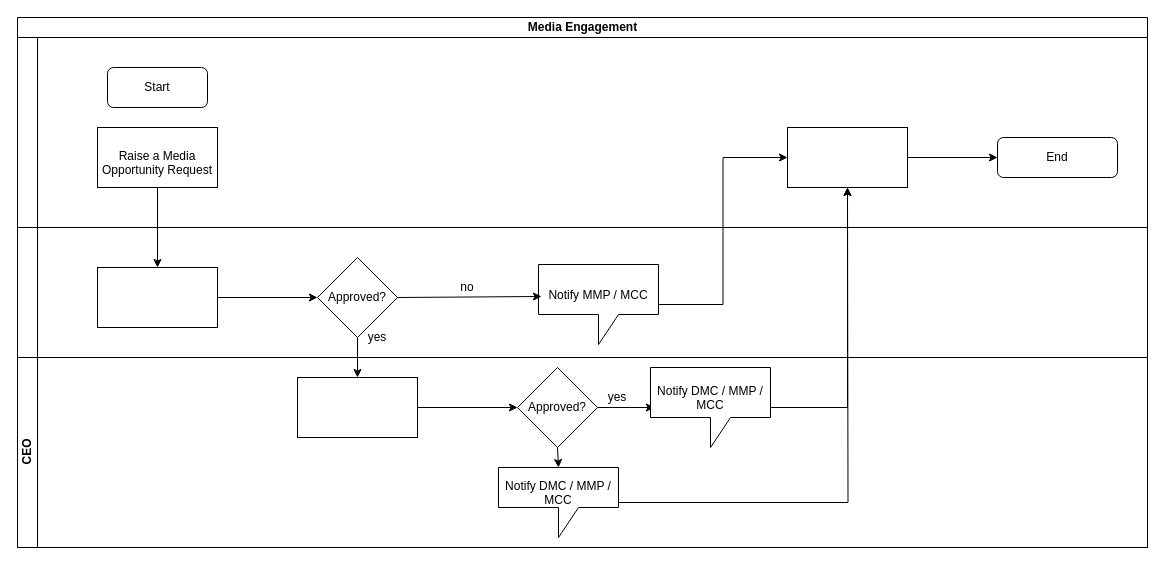
The diagram is 1165 pixels wide and 565 high, and some of its shapes have lost their labels. Here are the shapes that lost their labels. From the top down, the box of each, then its label:
(16, 36, 1148, 228): MMP/MCC
(786, 126, 908, 188): Log in activity report
(96, 266, 218, 328): Review
(16, 226, 1148, 358): DMC
(296, 376, 418, 438): Forwarded to CEO for Review
